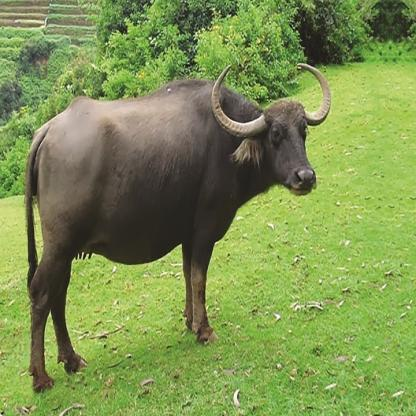buffalo: (21, 75, 304, 349)
